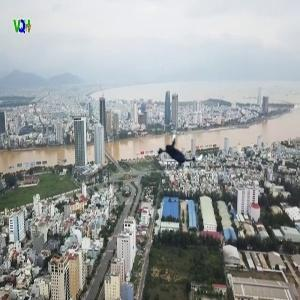drone: (149, 124, 208, 183)
